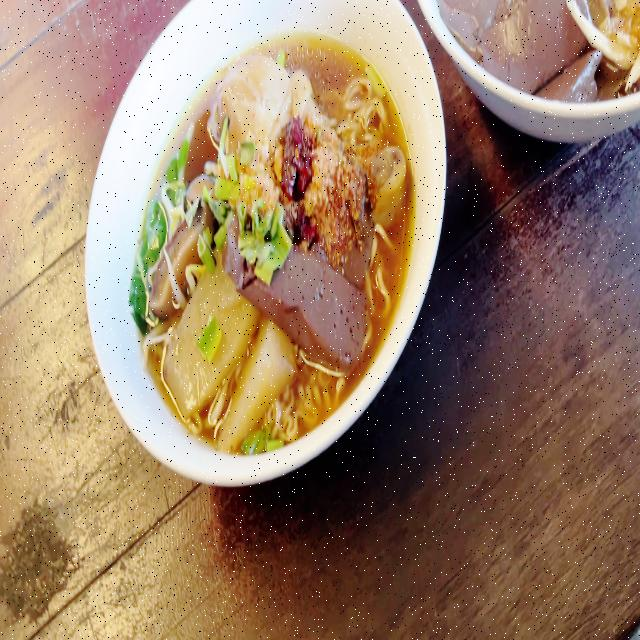boiled_chicken_blood_jelly: (435, 0, 602, 102), (243, 242, 374, 351)
chicken_drumstick: (211, 52, 410, 214)
daikon_radish: (152, 285, 291, 430)
noodle: (125, 12, 425, 462), (428, 0, 640, 118)
